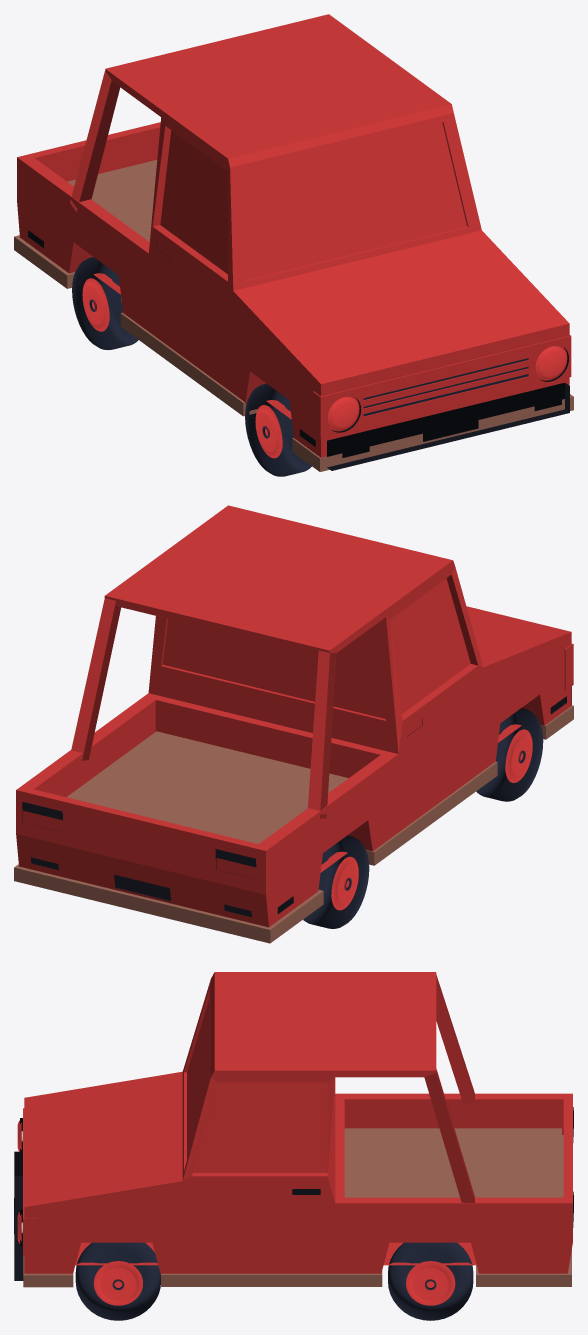
The model's file is car.obj.
3 renders of one model, top to bottom at view 1: azimuth 30°, elevation 25°; view 2: azimuth 150°, elevation 25°; view 3: azimuth 270°, elevation 25°, orthographic. The views are drawn at different scales.
Visible parts, largest first — view 1: Cube_1, Cube.3_1, Cube.4, Cylinder.1_1, Cylinder.7, Cube, Cube.1_1, Cube.3, Cube.2, Cube.1, Cylinder.2, Cylinder.2_1 (+1 smaller); view 2: Cube_1, Cube, Cube.1, Cylinder.1_1, Cylinder.7, Cube.1_1, Cube.2_1, Cube.2, Cube.10; view 3: Cube_1, Cube, Cylinder.5, Cylinder.6, Cube.2, Cube.2_1, Cube.1_1, Cube.1, Cube.4, Cube.3, Cube.3_1.
Boxes of the visible parts, box(x1,y1,x2,y2) form: Cube_1: box(17, 14, 569, 457); Cube.3_1: box(312, 335, 571, 437); Cube.4: box(327, 382, 569, 470); Cylinder.1_1: box(72, 257, 138, 350); Cylinder.7: box(245, 383, 311, 476); Cube: box(67, 160, 157, 241); Cube.1_1: box(70, 71, 120, 211); Cube.3: box(292, 394, 573, 471); Cube.2: box(120, 312, 269, 416); Cube.1: box(14, 235, 74, 288); Cylinder.2: box(535, 346, 568, 381); Cylinder.2_1: box(328, 397, 361, 432); Cube_1: box(16, 505, 571, 927); Cube: box(67, 731, 348, 843); Cube.1: box(14, 864, 323, 943); Cylinder.1_1: box(303, 835, 369, 928); Cylinder.7: box(476, 708, 543, 801); Cube.1_1: box(308, 650, 336, 818); Cube.2_1: box(71, 598, 121, 760); Cube.2: box(366, 761, 497, 865); Cube.10: box(114, 875, 170, 900); Cube_1: box(24, 972, 572, 1274); Cube: box(344, 1128, 561, 1197); Cylinder.5: box(388, 1242, 473, 1320); Cylinder.6: box(75, 1242, 160, 1320); Cube.2: box(161, 1271, 382, 1286); Cube.2_1: box(424, 1069, 474, 1202); Cube.1_1: box(436, 975, 475, 1105); Cube.1: box(476, 1249, 571, 1286); Cube.4: box(14, 1151, 23, 1280); Cube.3: box(23, 1255, 73, 1287); Cube.3_1: box(23, 1108, 37, 1255).
Size of what is drawn, in the model's own units: 155 by 158 by 324.
